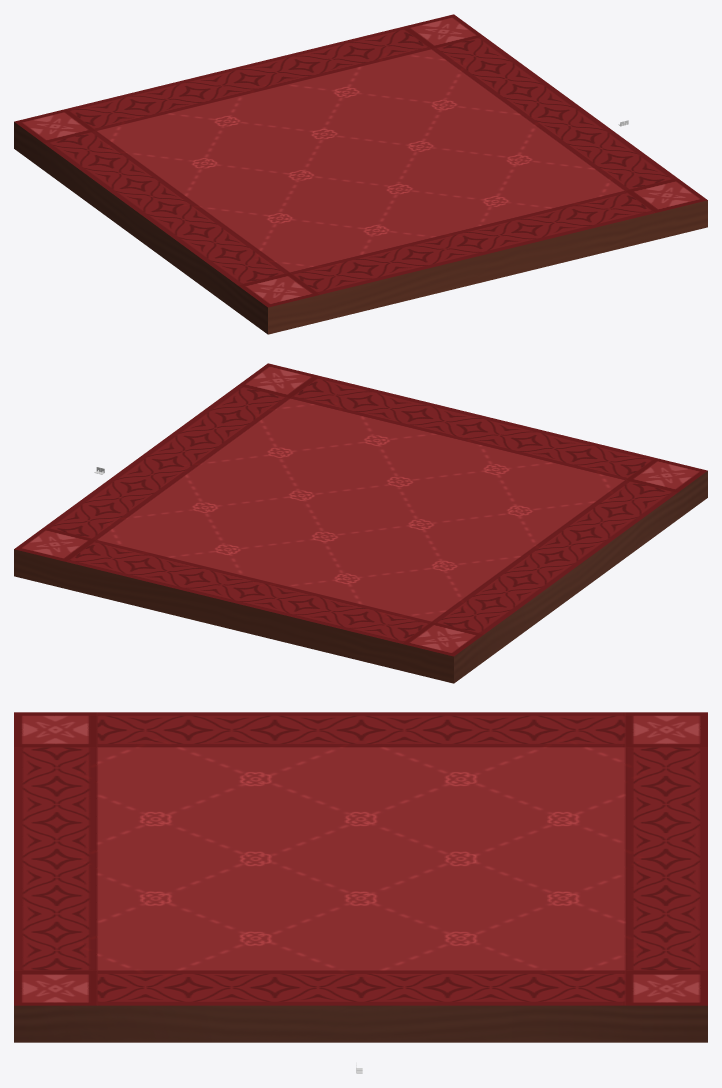
The model's file is doors.FBX.
The picture shows the model from 3 angles, top to bottom: view 1: azimuth 30°, elevation 25°; view 2: azimuth 150°, elevation 25°; view 3: azimuth 270°, elevation 25°; orthographic projection. The views are drawn at different scales.
Visible parts, largest first — view 1: Box001; view 2: Box001; view 3: Box001.
Part boxes in pixels (x1,y1,x2,y2): Box001: [14, 14, 707, 334]; Box001: [14, 363, 707, 683]; Box001: [14, 712, 707, 1042].
Bounding box in the file's own units: 225313 × 12106 × 204000.
1 material, 1 textured.
